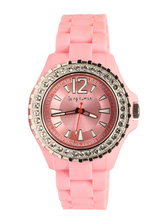watch: (23, 12, 143, 210)
